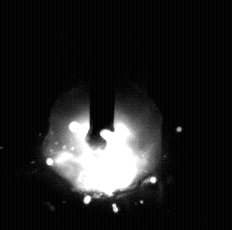arame: (91, 0, 115, 150)
poca: (41, 0, 163, 230)
